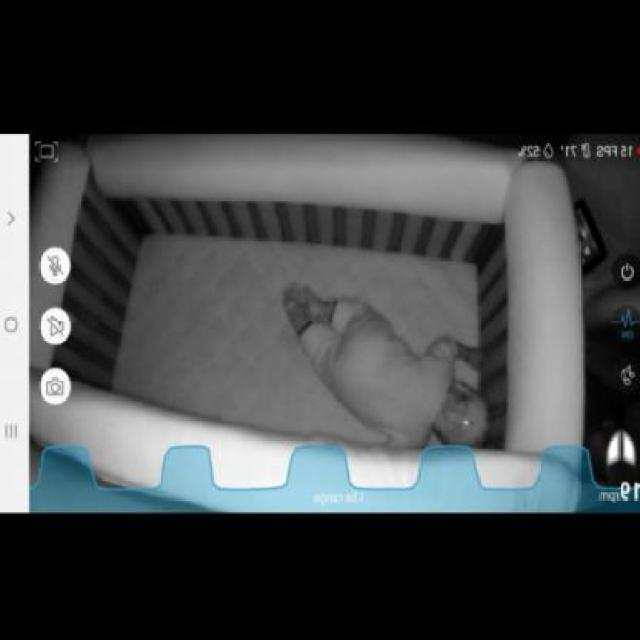baby: (284, 282, 493, 448)
